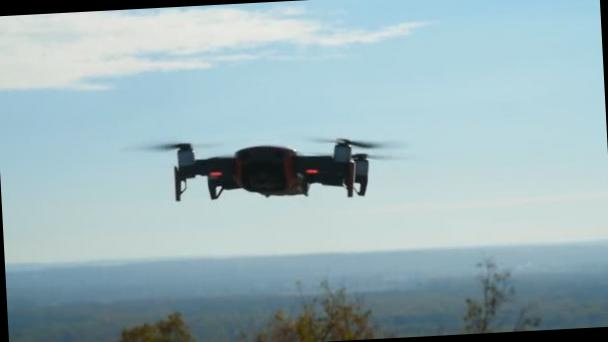drone: (149, 126, 394, 207)
